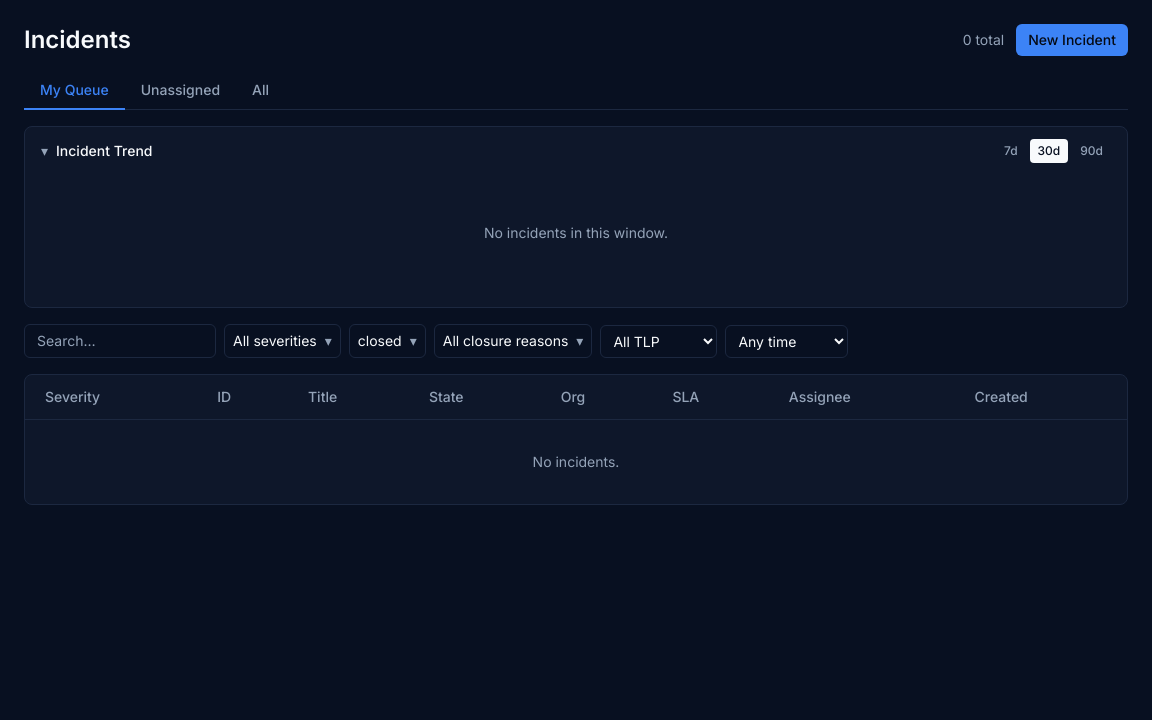
Test case: IncidentList › restoring a saved single-state selection shows only that state checked
The width and height of the screenshot is (1152, 720).
Step 1. Click the button with aria-label "State filter" → [387, 341], box 349,324 -> 426,358
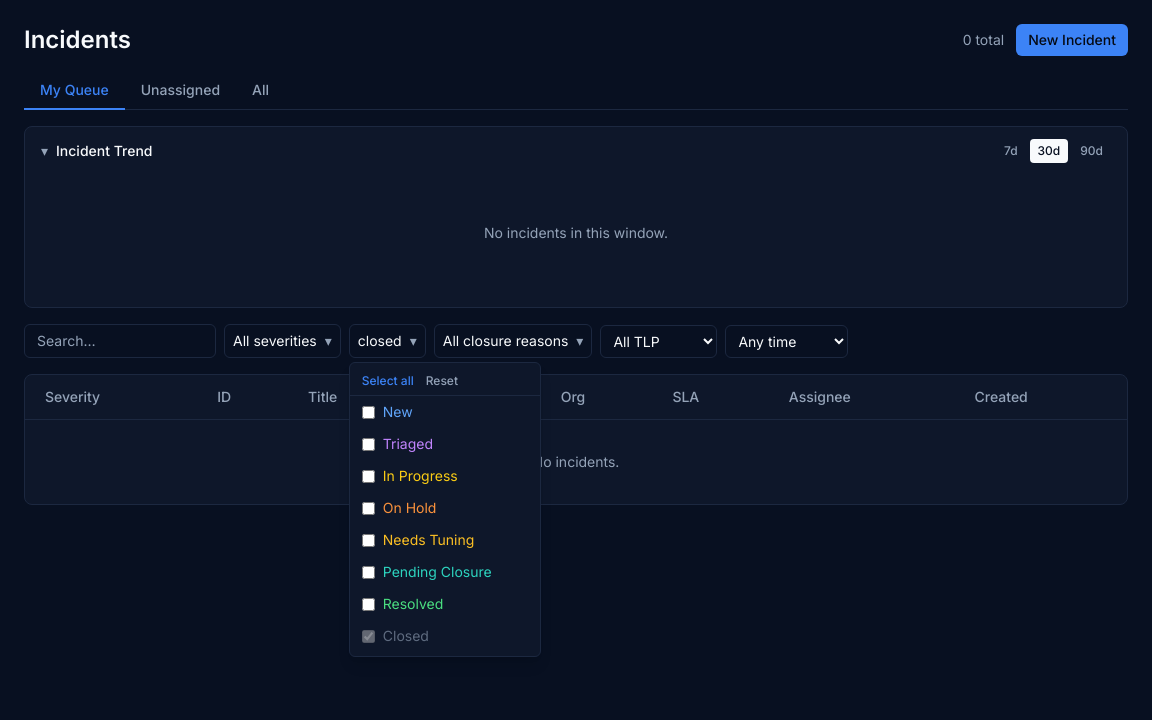
Check: the checkbox labelled "closed" is checked, box 362,630 -> 375,642
Check: the checkbox labelled "new" is not checked, box 362,406 -> 375,418
Check: the checkbox labelled "closed" is disabled, box 362,630 -> 375,642
